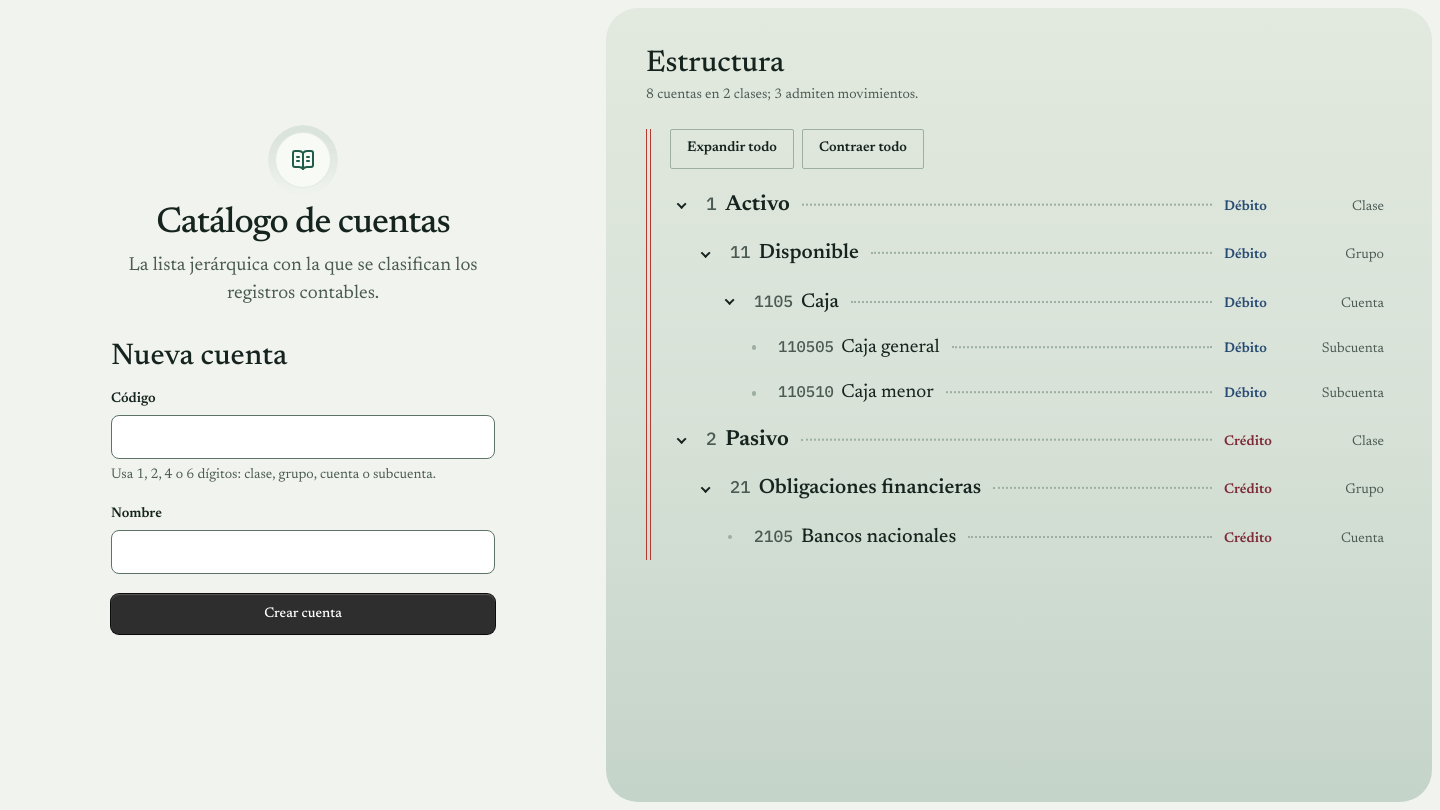
AccountsPage › creating › prefills the code of a child from the tree and moves the focus to the form
This screenshot has width=1440, height=810.
Check: the list is shown, box [670,181,1392,560]
Click the text "Caja": (820, 302) [801,286,839,317]
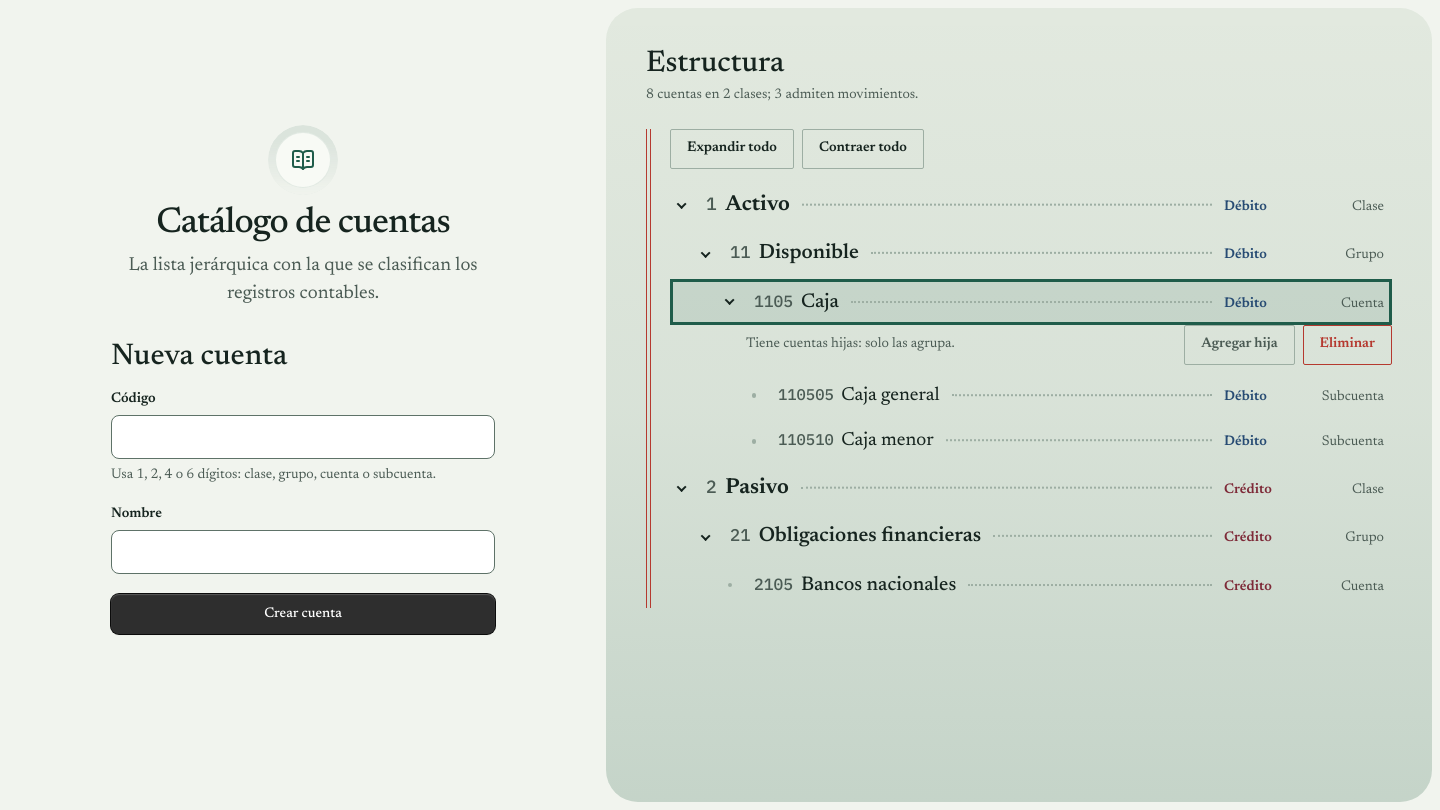
Click the button with aria-label "Agregar hija de 1105 Caja": (1239, 345) [1184,325,1295,365]
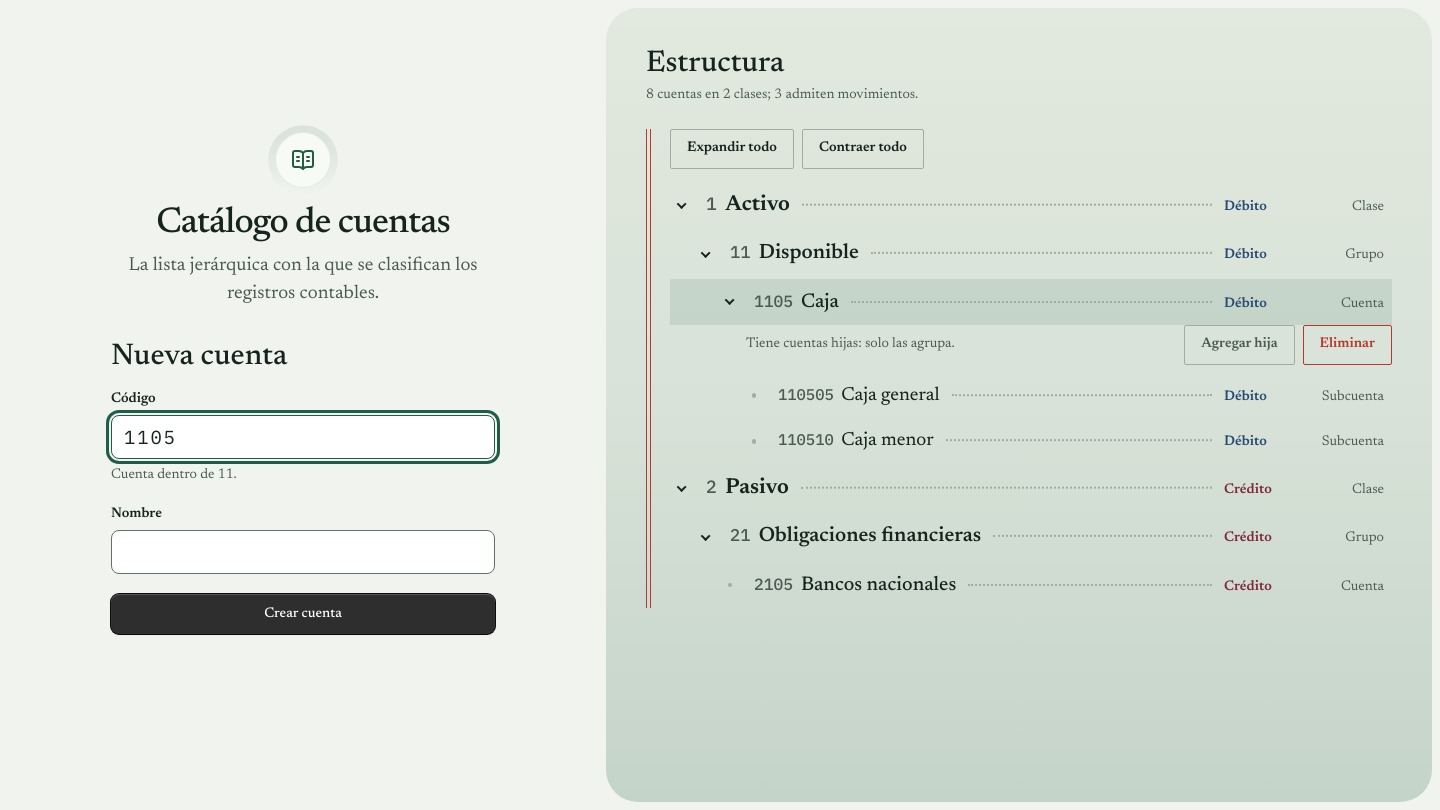
Check: the field labelled "Código" holds "1105", box [111,415,495,459]
